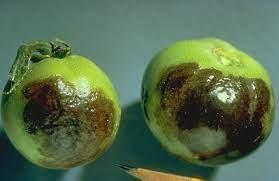tomato late blight: (140, 38, 277, 170), (3, 38, 123, 171)
